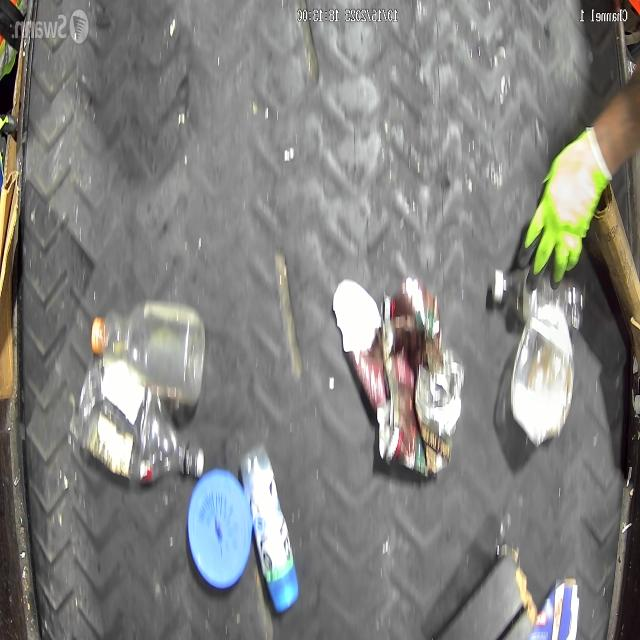plastic_bottle: (78, 366, 205, 481), (91, 298, 205, 406), (492, 266, 586, 329)
